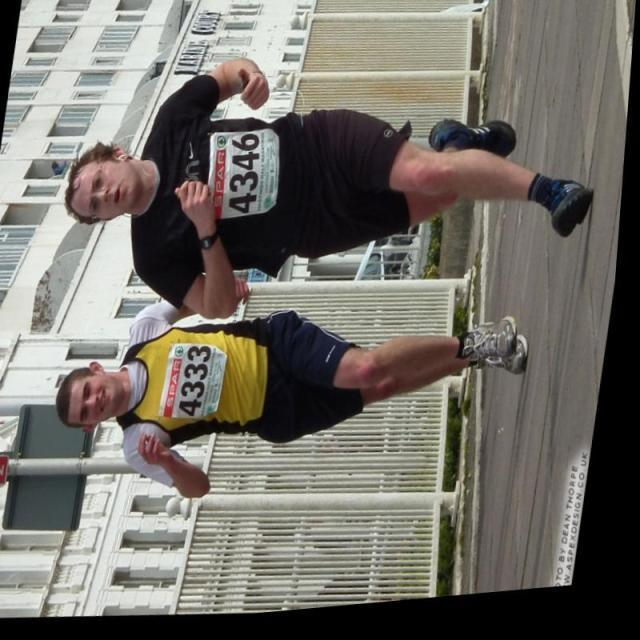dorsal: (194, 108, 296, 240), (154, 334, 243, 439)
